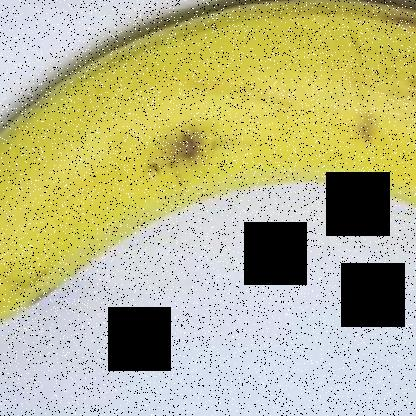freshripe: (0, 1, 415, 348)
